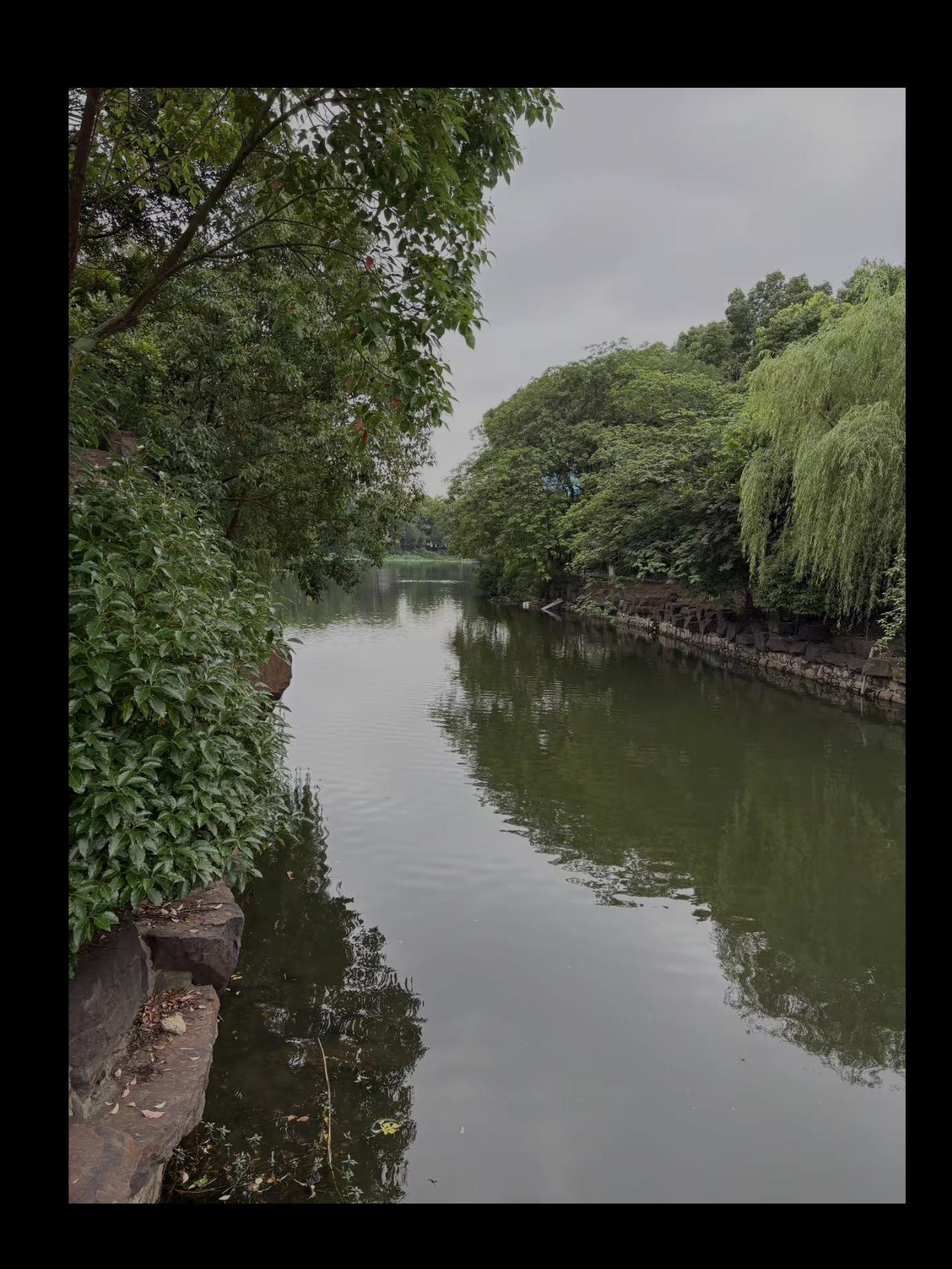Plastic wastes: (522, 601, 530, 608)
